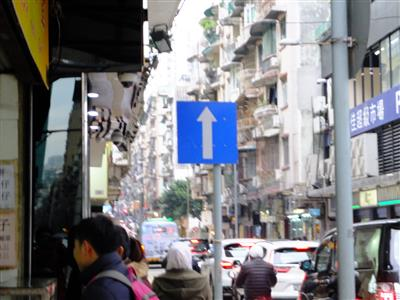oneway: (168, 91, 247, 170)
